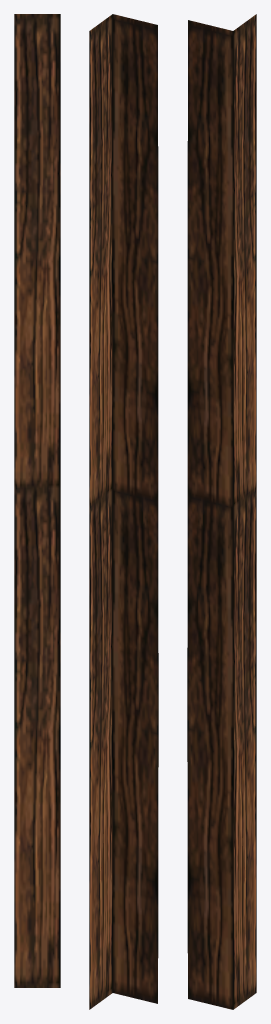
The model's file is LAKETOWN_WAREHOUSE2_PS_WH2_PUBBEAM7747.fbx.
3 views of the same model, side by side, from view 1: azimuth 90°, elevation 25°; view 2: azimuth 150°, elevation 25°; view 3: azimuth 330°, elevation 25° (orthographic).
Visible parts, largest first — view 1: LAKETOWN_WAREHOUSE2_PS_WH2_PUBBEAM7747; view 2: LAKETOWN_WAREHOUSE2_PS_WH2_PUBBEAM7747; view 3: LAKETOWN_WAREHOUSE2_PS_WH2_PUBBEAM7747.
Boxes of the visible parts, x1,y1,x2,y2 form: LAKETOWN_WAREHOUSE2_PS_WH2_PUBBEAM7747: (14,14,60,987); LAKETOWN_WAREHOUSE2_PS_WH2_PUBBEAM7747: (89,14,158,1009); LAKETOWN_WAREHOUSE2_PS_WH2_PUBBEAM7747: (187,14,256,1009).
Size of the model in its own units: 1971 by 40226 by 1734.
Materials: 1 (1 with a texture image).
